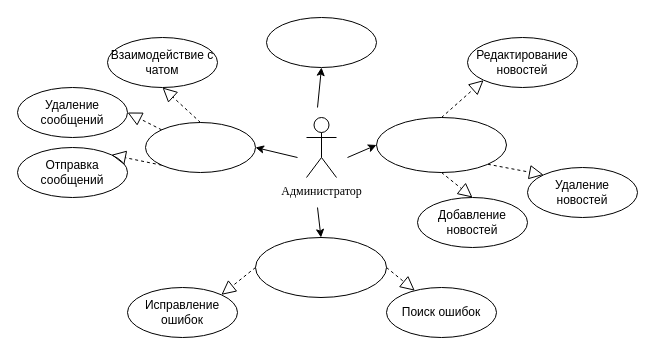
The diagram is 655 pixels wide and 355 high, and some of its shapes have lost their labels. The centre of each missing label's shape, as x and y in pixels:
Администрирование сайта: (x=320, y=267)
Управление новостями: (x=441, y=144)
Управление пользователями: (x=321, y=42)
Управление чатом: (x=200, y=147)
